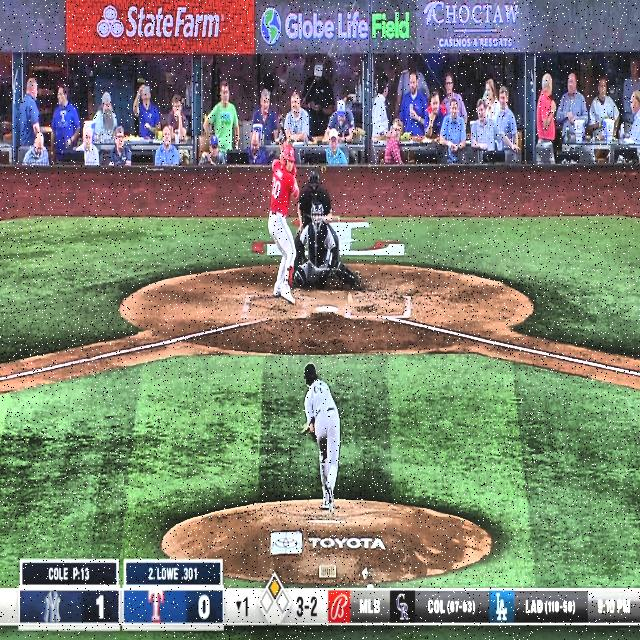baseball: (348, 293, 353, 304)
